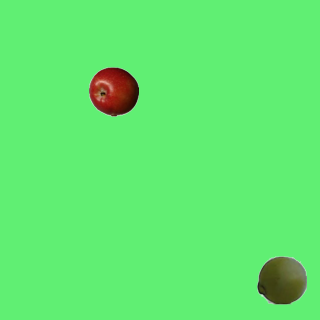Apple Braeburn: (88, 66, 138, 116)
Grape White 4: (256, 254, 306, 304)
